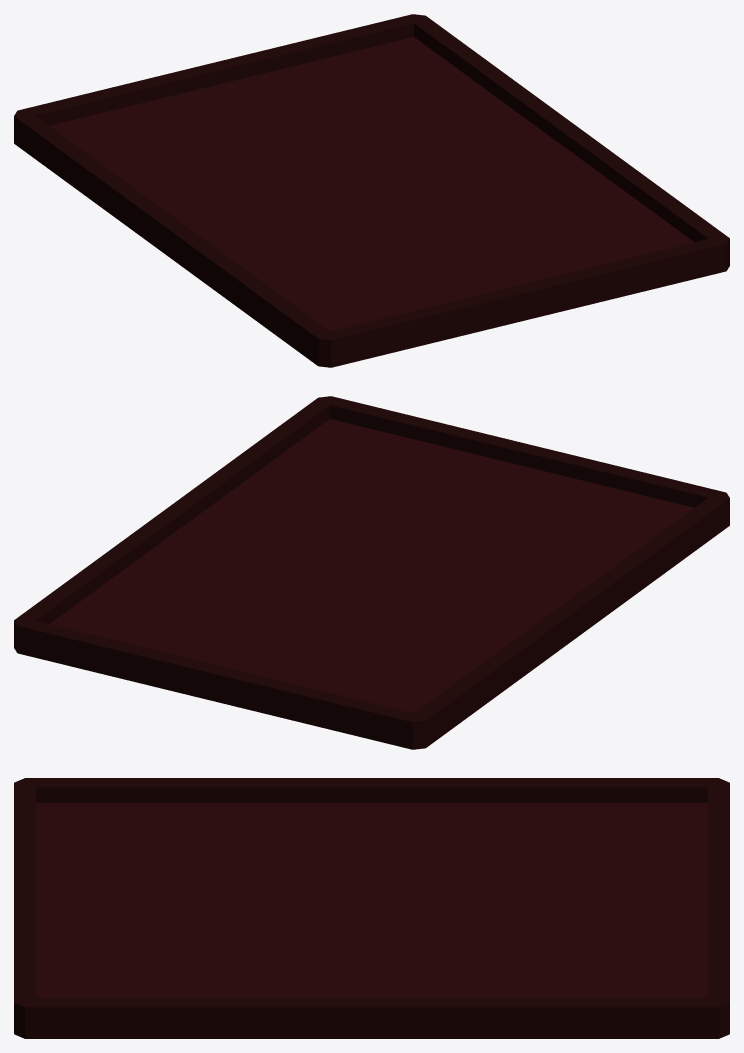
The picture shows the model from 3 angles, top to bottom: view 1: azimuth 30°, elevation 25°; view 2: azimuth 150°, elevation 25°; view 3: azimuth 270°, elevation 25°; orthographic projection. The views are drawn at different scales.
Visible parts, largest first — view 1: roof_corner_21, roof_corner_19, roof_corner_29, roof_corner_31, roof_side_28, roof_side_30, roof_side_20, roof_side_26, roof_side_25, roof_side_27, roof_square_32, roof_square_33; view 2: roof_corner_31, roof_corner_19, roof_corner_29, roof_corner_21, roof_side_30, roof_side_20, roof_side_25, roof_side_27, roof_side_26, roof_side_28, roof_square_33, roof_square_32; view 3: roof_corner_19, roof_corner_29, roof_corner_21, roof_side_26, roof_side_27, roof_side_25, roof_side_28, roof_corner_31, roof_side_20, roof_side_30, roof_square_32, roof_square_33.
Boxes of the visible parts, x1,y1,x2,y2 form: roof_corner_21: [242, 259, 465, 367]; roof_corner_19: [507, 181, 729, 303]; roof_corner_29: [278, 14, 501, 122]; roof_corner_31: [14, 78, 237, 198]; roof_side_28: [354, 70, 577, 178]; roof_side_30: [146, 46, 368, 149]; roof_side_20: [375, 227, 597, 335]; roof_side_26: [90, 148, 311, 254]; roof_side_25: [166, 208, 389, 310]; roof_side_27: [435, 125, 653, 228]; roof_square_32: [226, 116, 442, 210]; roof_square_33: [303, 176, 520, 263]; roof_corner_31: [278, 641, 501, 749]; roof_corner_19: [242, 396, 465, 504]; roof_corner_29: [14, 563, 235, 685]; roof_corner_21: [506, 460, 729, 580]; roof_side_30: [146, 609, 367, 717]; roof_side_20: [374, 428, 597, 530]; roof_side_25: [432, 530, 653, 636]; roof_side_27: [166, 452, 388, 560]; roof_side_26: [354, 590, 577, 692]; roof_side_28: [90, 508, 308, 613]; roof_square_33: [301, 498, 518, 592]; roof_square_32: [222, 558, 440, 645]; roof_corner_19: [14, 927, 209, 1038]; roof_corner_29: [534, 927, 729, 1038]; roof_corner_21: [14, 778, 209, 876]; roof_side_26: [361, 778, 556, 876]; roof_side_27: [187, 940, 382, 1038]; roof_side_25: [187, 778, 382, 876]; roof_side_28: [361, 940, 556, 1038]; roof_corner_31: [534, 778, 729, 876]; roof_side_20: [14, 851, 209, 949]; roof_side_30: [534, 851, 729, 949]; roof_square_32: [361, 867, 551, 949]; roof_square_33: [187, 867, 382, 949].
Bounding box in the file's own units: 31.25 × 2 × 41.25.
